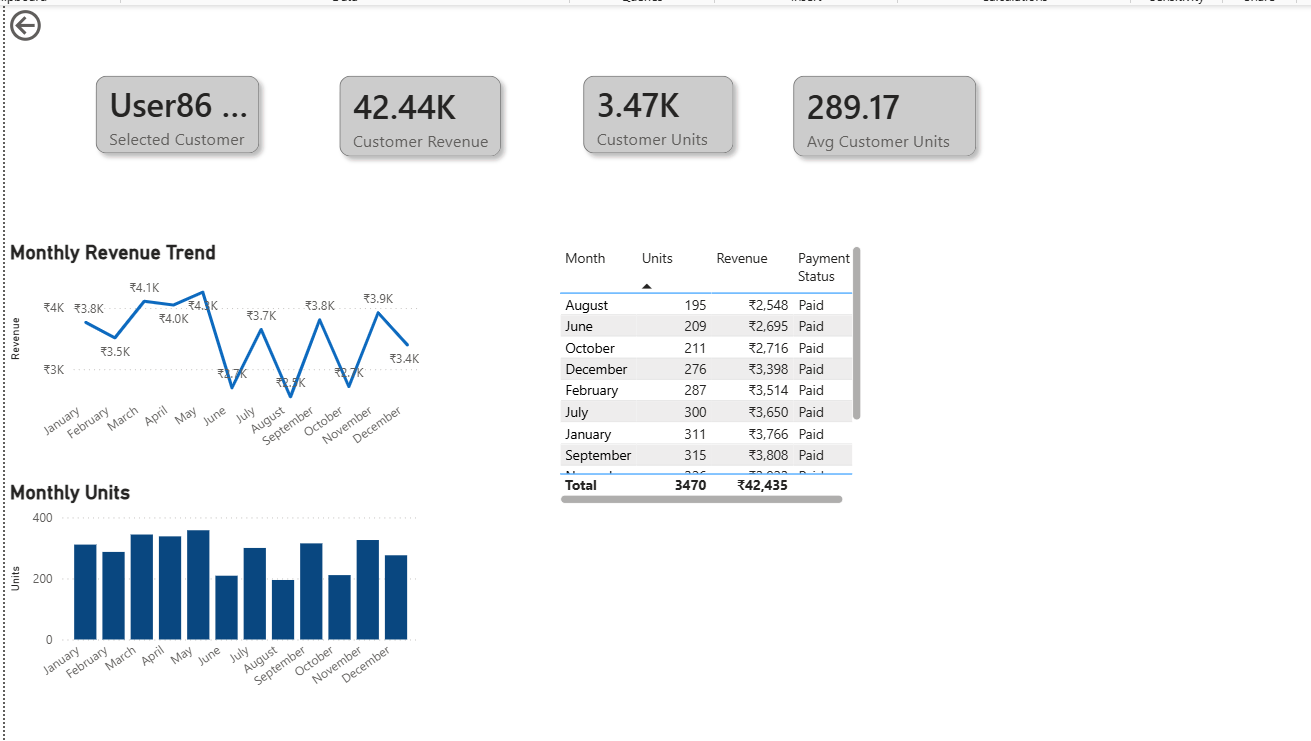

Layout of this report page (visuals, bound fields, positions):
{"tool":"powerbi","page":{"name":"Customer Details","canvas":[1280,720],"ordinal":2},"visuals":[{"type":"actionButton","box":[0,0,100,40],"z":0},{"type":"cardVisual","fields":{"Data":["Measures (2).Selected Customer"]},"box":[60.4,39.8,218.2,134.5],"z":1000},{"type":"cardVisual","fields":{"Data":["Measures (2).Customer Revenue"]},"box":[297.8,39.8,216.8,137.2],"z":2000},{"type":"cardVisual","fields":{"Data":["Measures (2).Customer Units"]},"box":[536.5,39.8,205.8,134.5],"z":3000},{"type":"cardVisual","fields":{"Data":["Measures (2).Avg Customer Units"]},"box":[742.4,39.8,237.4,137.2],"z":4000},{"type":"lineChart","title":"Monthly Revenue Trend","fields":{"Category":["vw_DashboardData.ReadingDate.Variation.Date Hierarchy.Month"],"Y":["Sum(vw_DashboardData.BillAmount)"]},"box":[0,230.5,410.3,222.3],"z":5000},{"type":"clusteredColumnChart","title":"Monthly Units","fields":{"Category":["vw_DashboardData.ReadingDate.Variation.Date Hierarchy.Month"],"Y":["Sum(vw_DashboardData.UnitsConsumed)"]},"box":[0,465.5,410,222],"z":6000},{"type":"tableEx","fields":{"Values":["vw_DashboardData.ReadingDate.Variation.Date Hierarchy.Month","Sum(vw_DashboardData.UnitsConsumed)","Sum(vw_DashboardData.BillAmount)","vw_DashboardData.PaymentStatus"]},"box":[536.5,230.5,306,262.1],"z":7000}]}

Visuals, with their boxes on the page's 1280x720 design canvas (x1, y1, x2, y2). These are canvas units, not pixel positions in the 1311x741 screenshot, which may show the page scaled, cropped or inside an application window:
actionButton: 0, 0, 100, 40
cardVisual - Measures (2).Selected Customer: 60, 40, 279, 174
cardVisual - Measures (2).Customer Revenue: 298, 40, 515, 177
cardVisual - Measures (2).Customer Units: 536, 40, 742, 174
cardVisual - Measures (2).Avg Customer Units: 742, 40, 980, 177
"Monthly Revenue Trend" lineChart: 0, 230, 410, 453
"Monthly Units" clusteredColumnChart: 0, 466, 410, 688
tableEx - vw_DashboardData.ReadingDate.Variation.Date Hierarchy.Month x Sum(vw_DashboardData.UnitsConsumed): 536, 230, 842, 493
